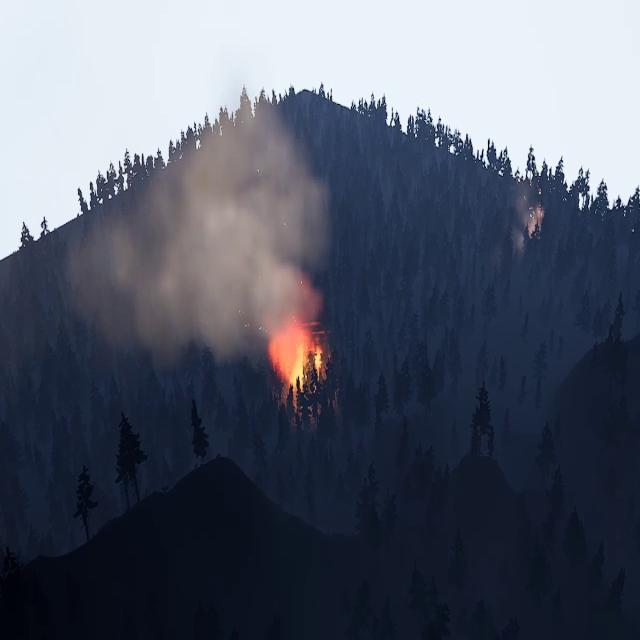fire: (270, 318, 328, 409), (526, 202, 544, 239)
smoke: (78, 97, 331, 356), (514, 190, 534, 259)
